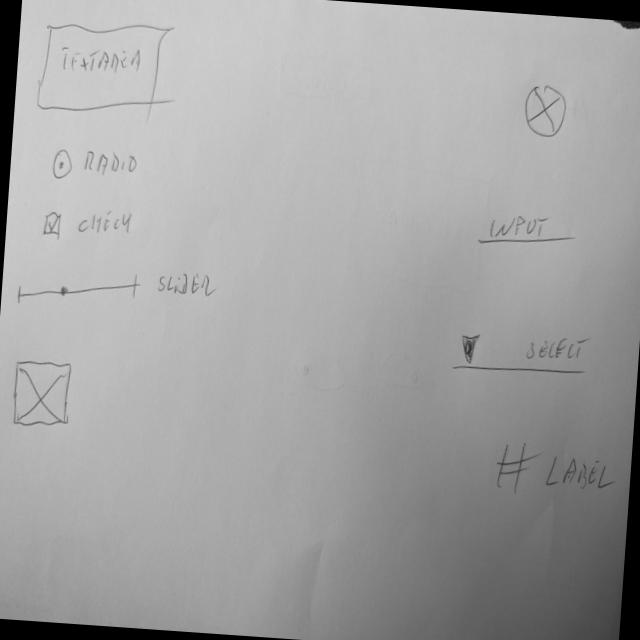checkbox: (42, 201, 135, 243)
image: (10, 356, 75, 433), (522, 79, 571, 141)
input: (477, 206, 581, 255)
label: (493, 439, 620, 505)
radio: (50, 146, 141, 187)
slider: (13, 263, 142, 315)
